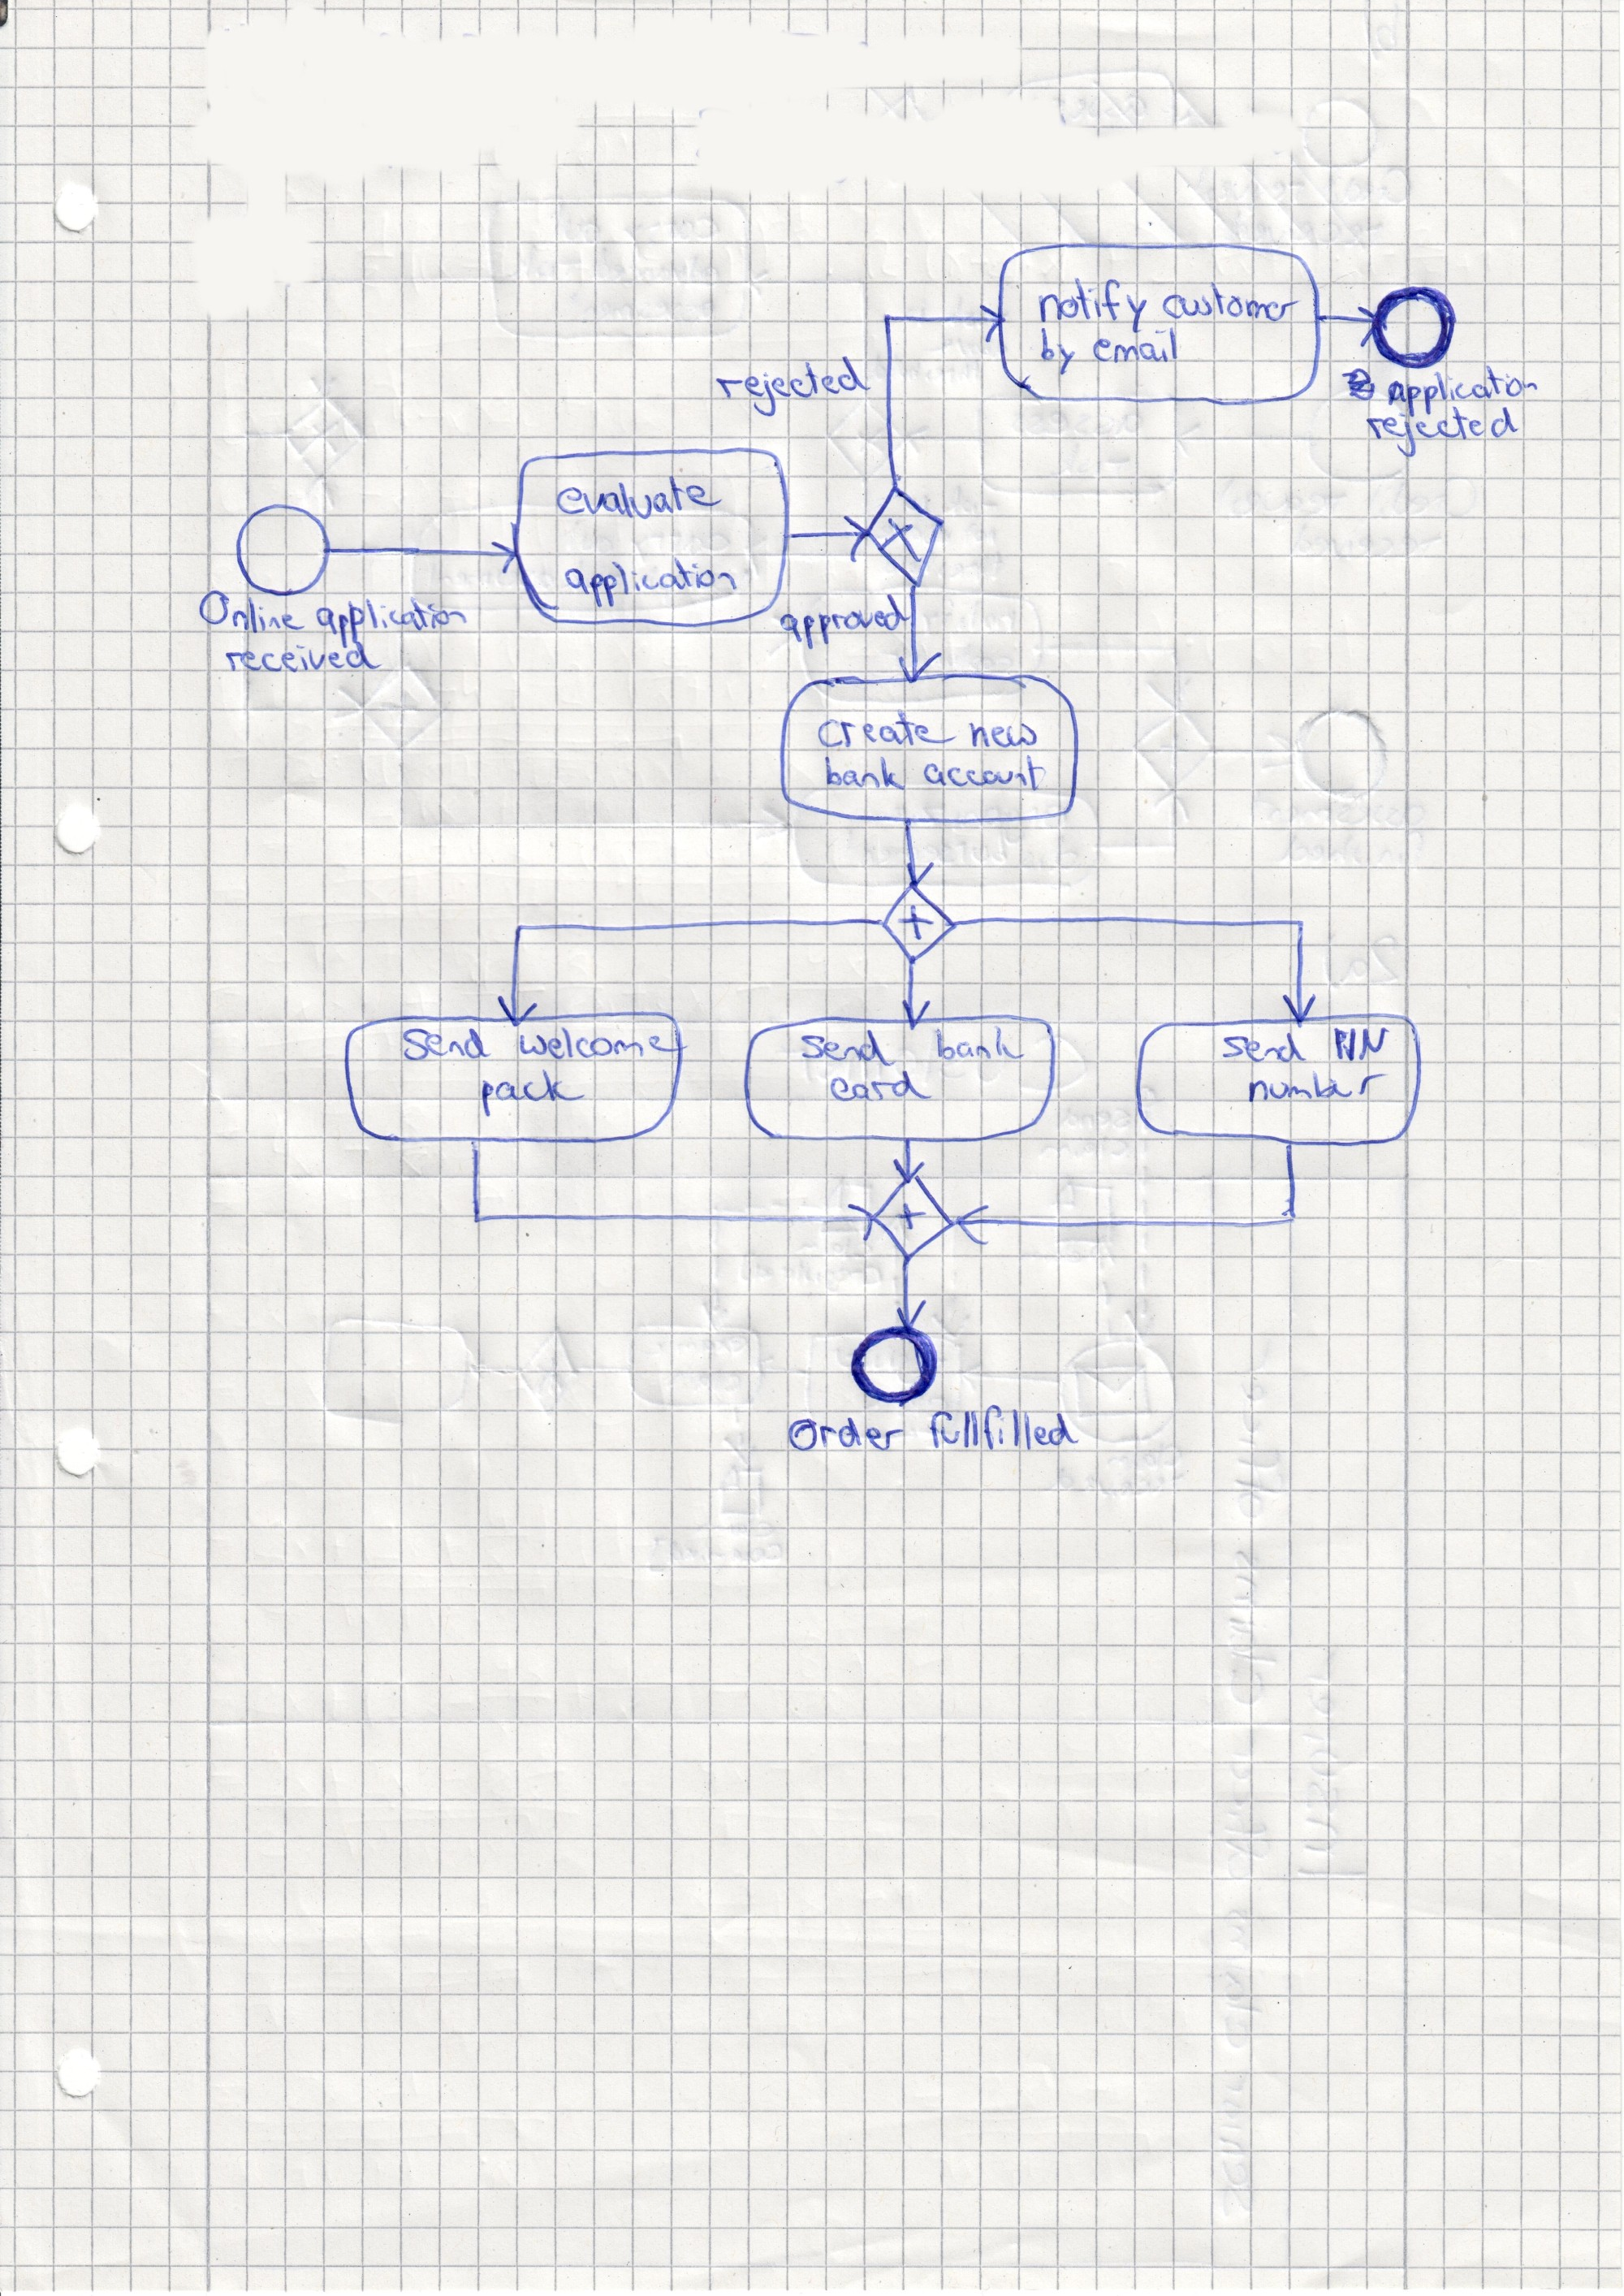Online: (190, 589, 308, 640)
Order: (780, 1410, 909, 1452)
PIN: (1329, 1025, 1392, 1064)
account: (921, 756, 1048, 793)
application: (564, 550, 742, 608), (309, 589, 473, 640), (1378, 369, 1543, 413)
approved: (777, 594, 909, 650)
bank: (930, 1025, 1028, 1067), (810, 756, 912, 796)
by: (1033, 329, 1083, 378)
card: (824, 1069, 930, 1111)
create: (816, 707, 958, 752)
customer: (1162, 281, 1302, 329)
email: (1090, 332, 1183, 373)
evaluate: (552, 473, 722, 529)
fullfilled: (919, 1405, 1084, 1454)
new: (967, 714, 1040, 754)
notify: (1033, 278, 1155, 332)
number: (1243, 1067, 1388, 1108)
pack: (475, 1064, 587, 1118)
received: (218, 640, 380, 682)
rejected: (710, 357, 870, 417), (1366, 406, 1520, 457)
send: (390, 1025, 504, 1064), (794, 1027, 896, 1067), (1222, 1028, 1313, 1067)
welcome: (517, 1027, 671, 1069)
